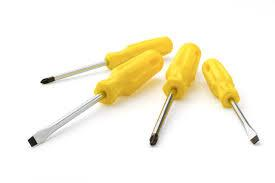screwdriver: (26, 48, 161, 146), (39, 34, 172, 83), (149, 42, 200, 145), (201, 57, 260, 144)
